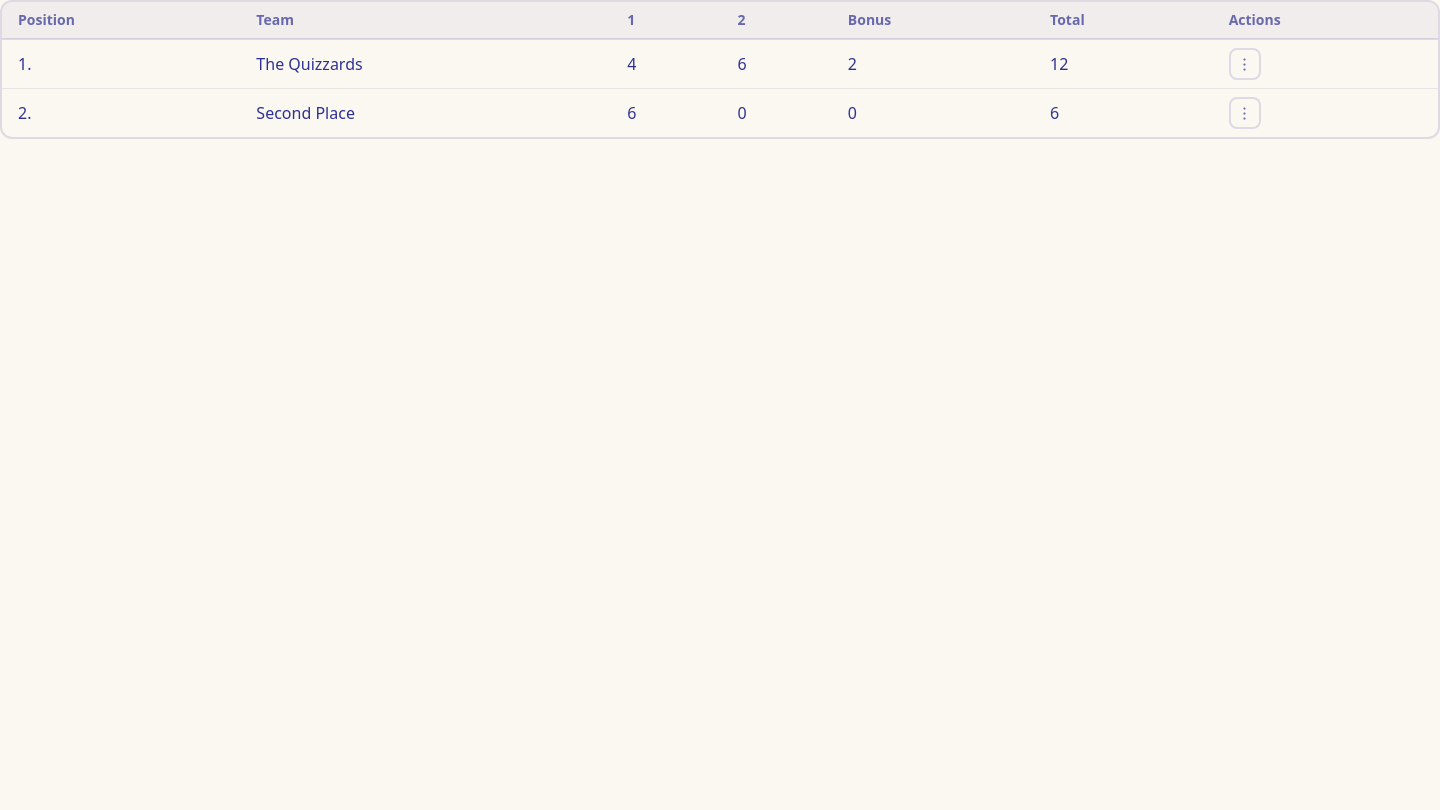
Test: TeamsTable › opens a bonus award modal for a team from its actions menu and awards a predefined-category bonus
This screenshot has width=1440, height=810.
Click the button named "Actions for The Quizzards" at (1245, 64), box [1229,48,1261,80]
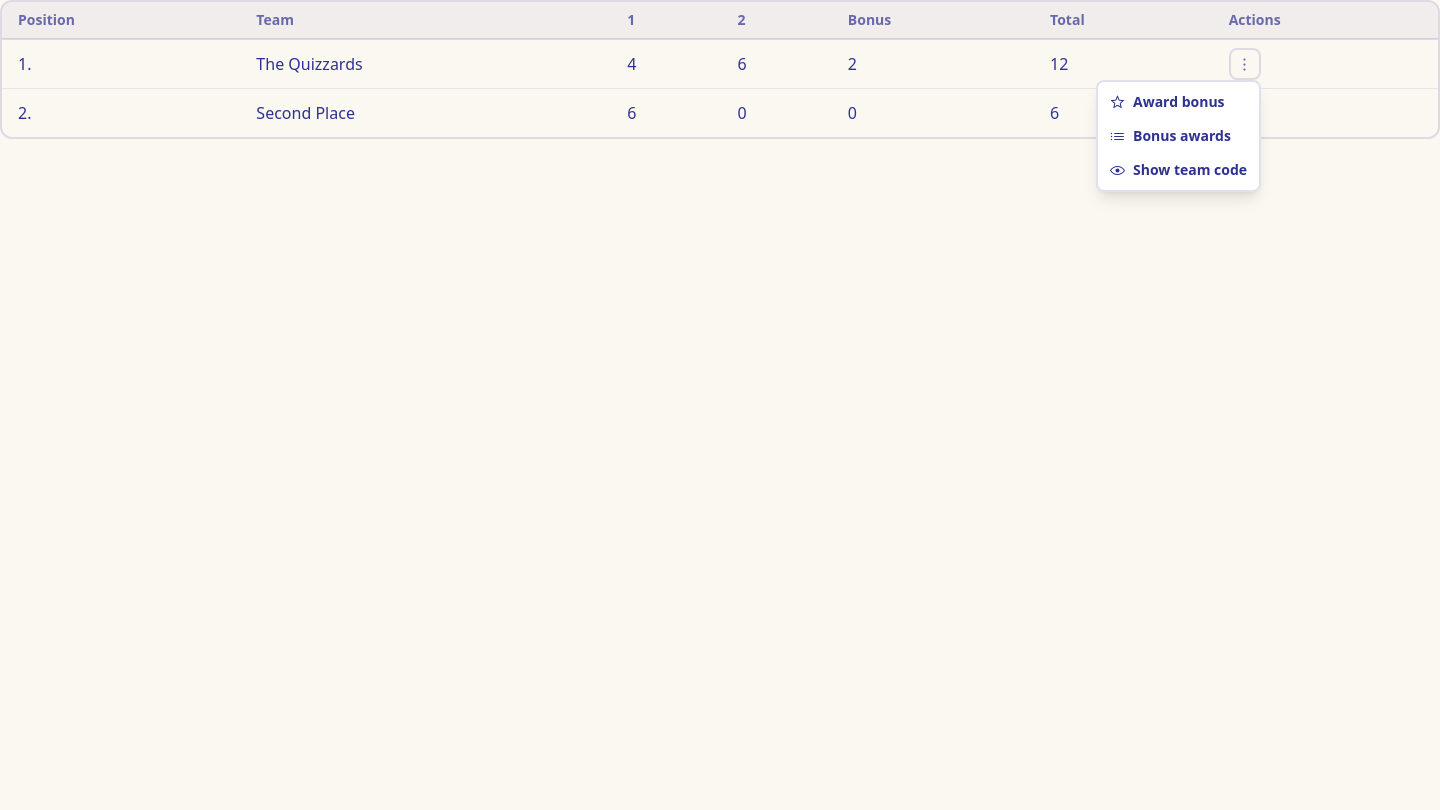
Click the menu item "Award bonus" at (1167, 102), box [1110,92,1225,111]
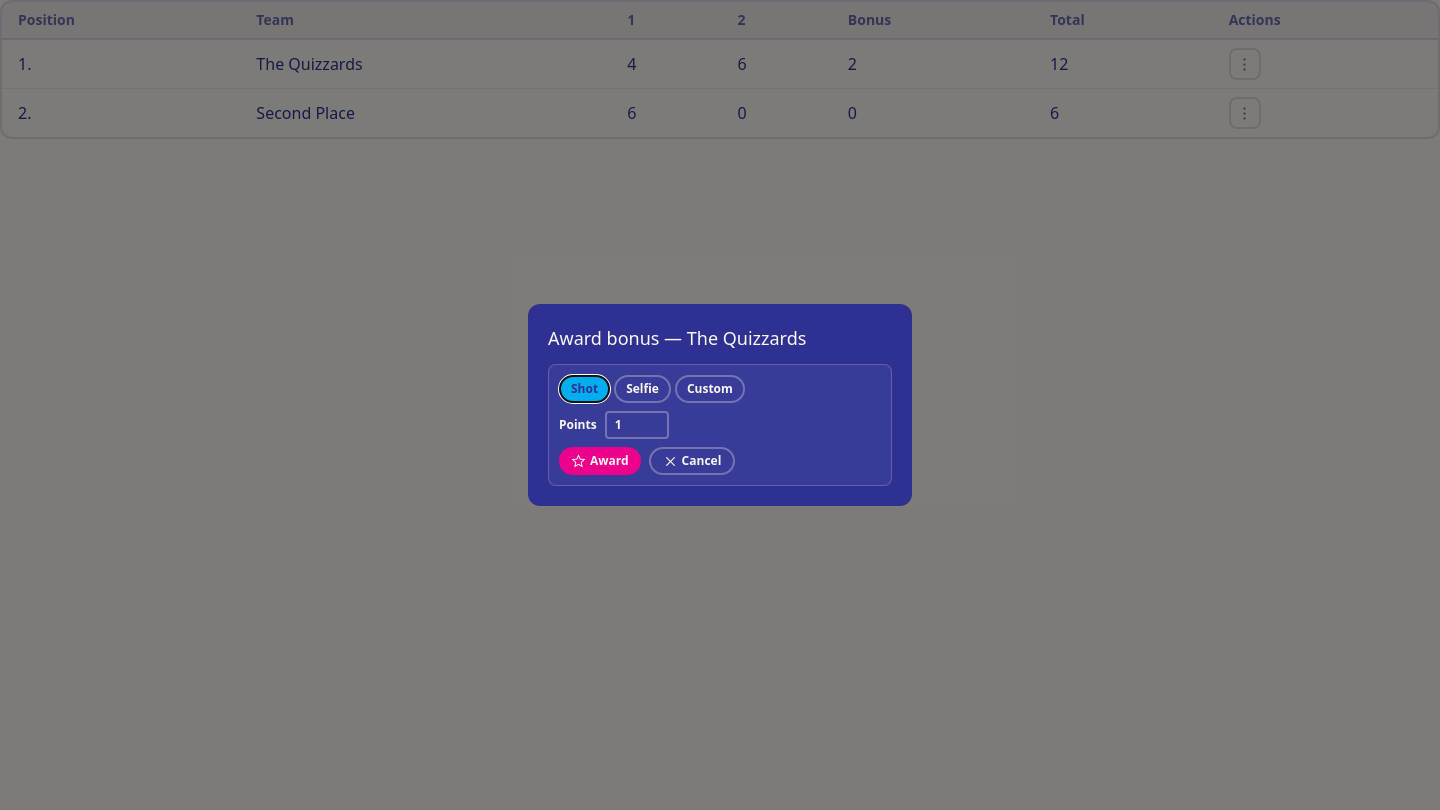
expect the dialog is shown: met, box [528,304,912,506]
Click the button "Selfie" at (642, 389), box [614,375,671,403]
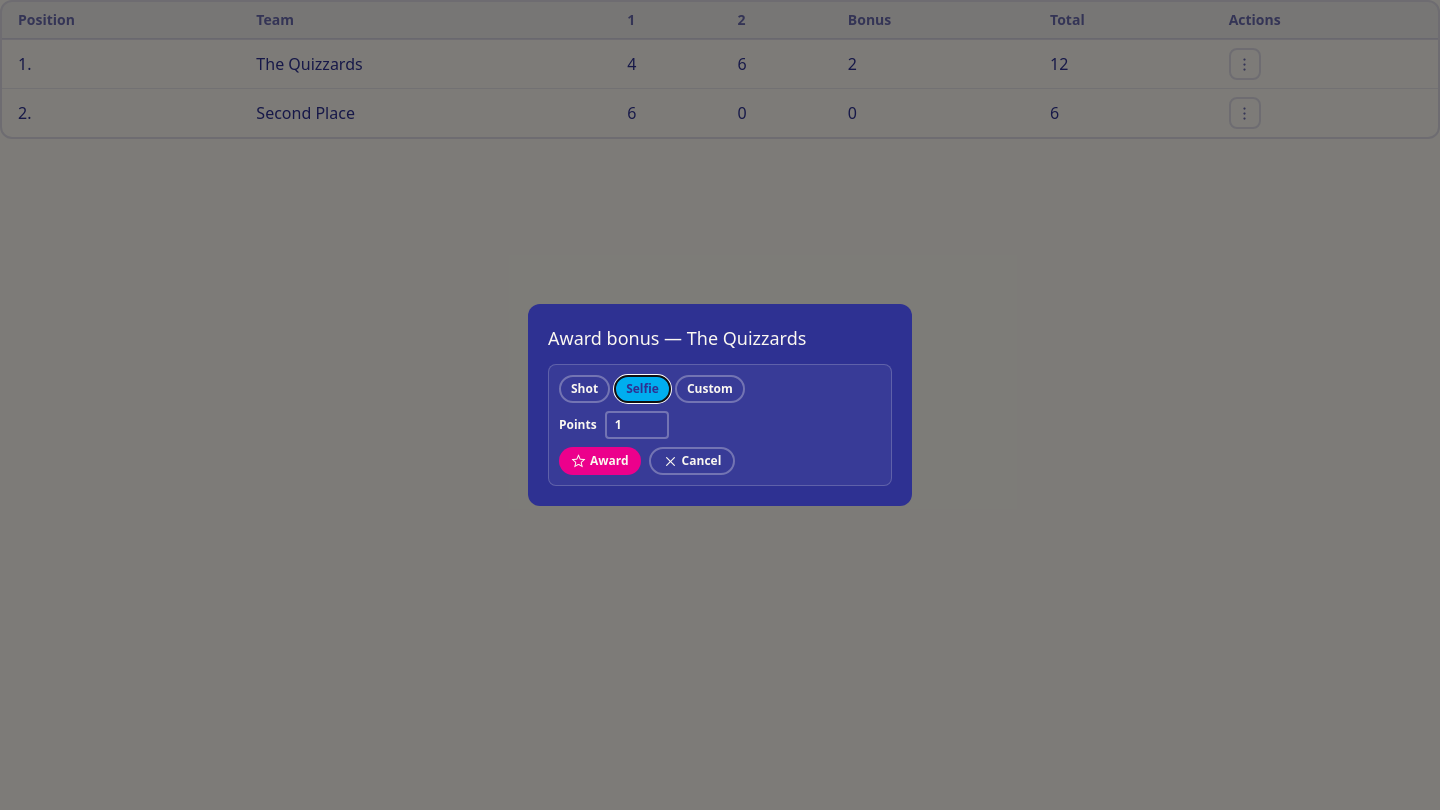
Click the button "Award" at (600, 461), box [559,447,641,475]
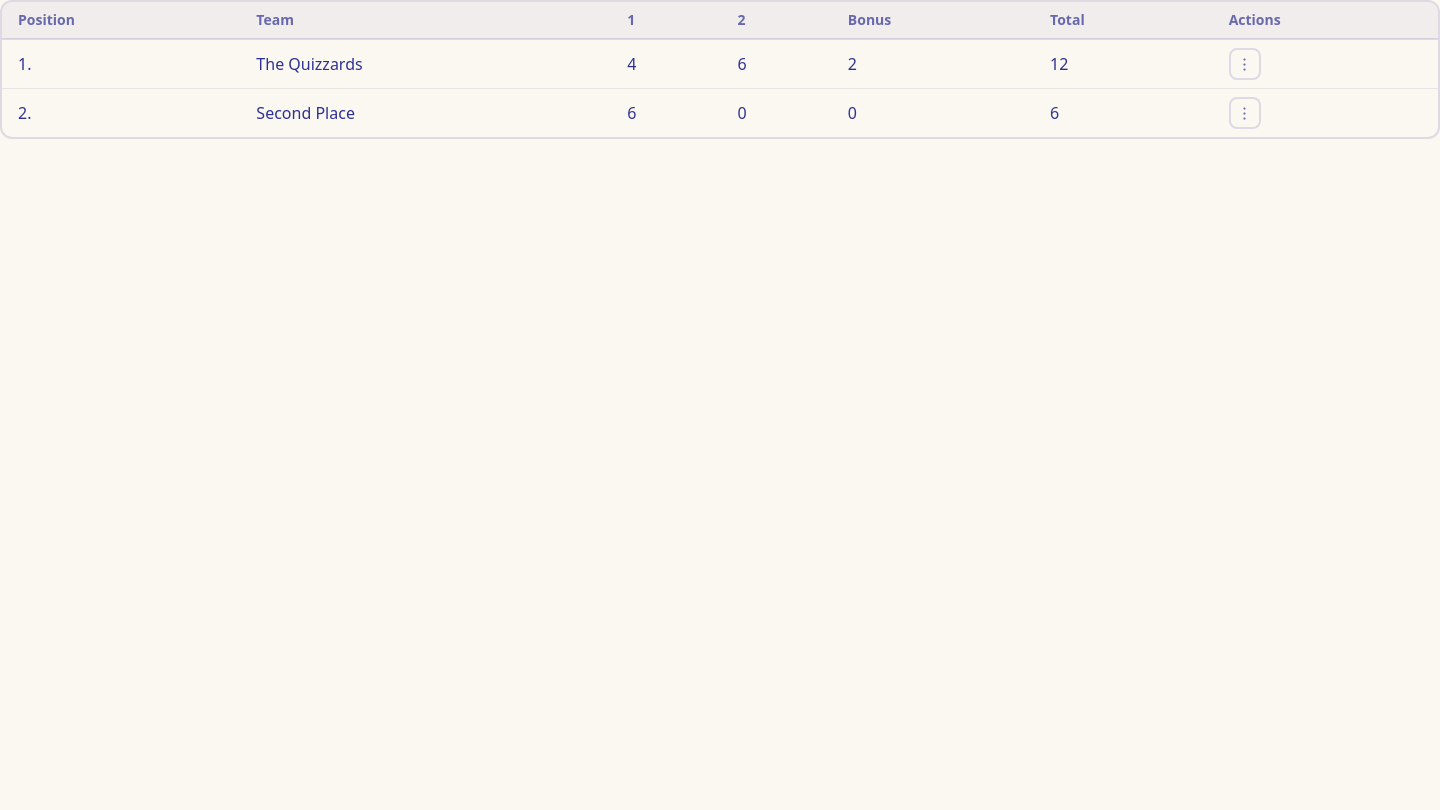
expect the dialog is gone: met
